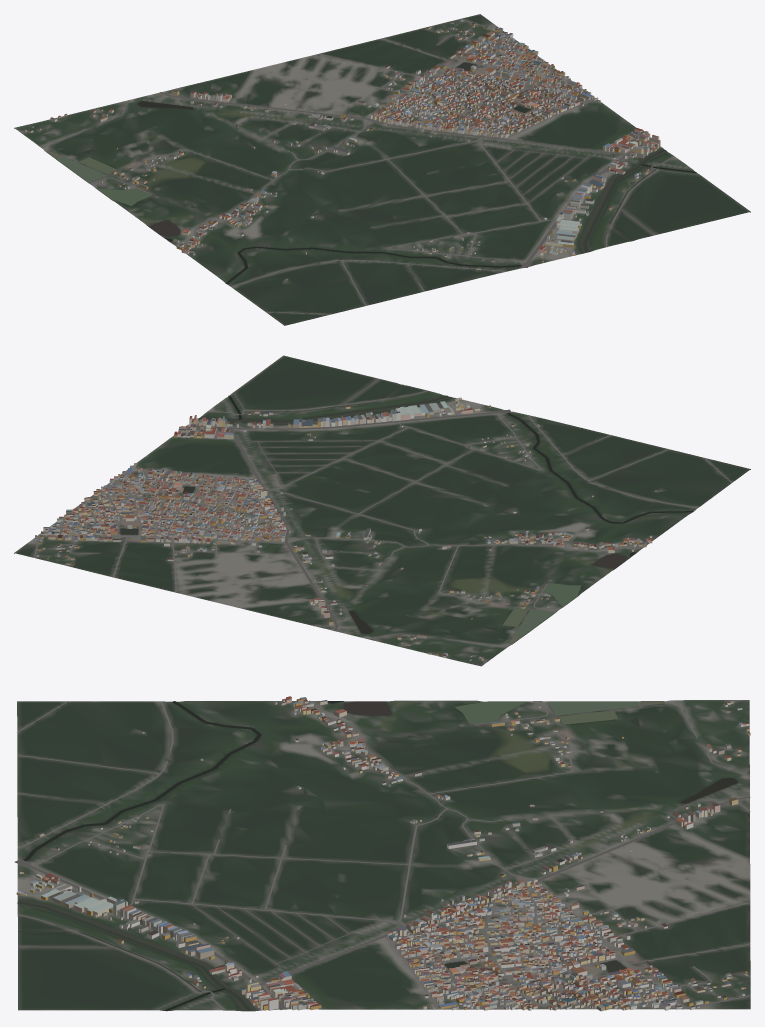
3 renders of one model, top to bottom at view 1: azimuth 30°, elevation 25°; view 2: azimuth 150°, elevation 25°; view 3: azimuth 270°, elevation 25°, orthographic. The views are drawn at different scales.
Parts seen in each view (by area): view 1: ground, buildings, roads, water; view 2: ground, buildings, roads, water; view 3: ground, buildings, roads, water.
Part boxes in pixels (bbox=[...]): ground: bbox=[14, 14, 750, 325]; buildings: bbox=[24, 19, 660, 280]; roads: bbox=[17, 19, 700, 314]; water: bbox=[46, 62, 696, 284]; ground: bbox=[14, 355, 750, 666]; buildings: bbox=[35, 397, 656, 661]; roads: bbox=[34, 378, 732, 663]; water: bbox=[120, 384, 693, 643]; ground: bbox=[17, 700, 750, 1011]; buildings: bbox=[16, 696, 750, 1011]; roads: bbox=[14, 700, 750, 1010]; water: bbox=[17, 701, 737, 1011].
Bounding box in the file's own units: 1413 × 28.58 × 1410.
